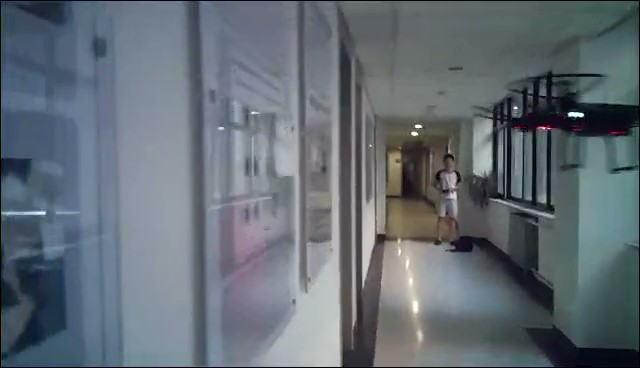drone: (470, 71, 639, 176)
person: (432, 153, 463, 246)
